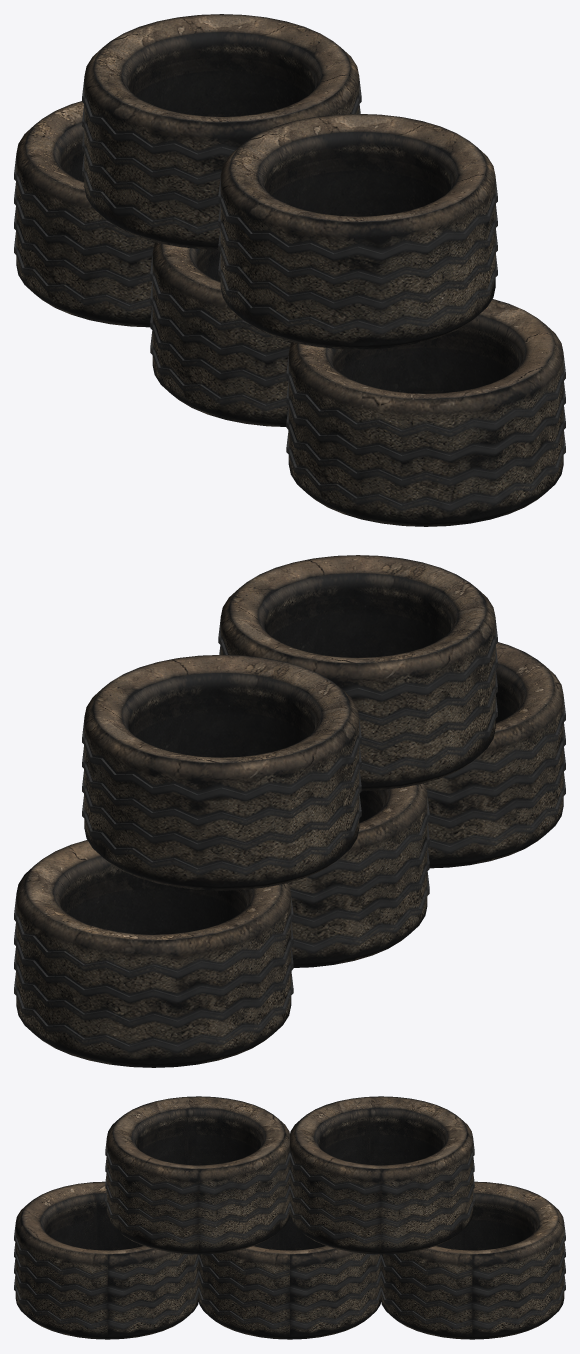
The model's file is TireWall.fbx.
The picture shows the model from 3 angles, top to bottom: view 1: azimuth 30°, elevation 25°; view 2: azimuth 150°, elevation 25°; view 3: azimuth 270°, elevation 25°; orthographic projection. The views are drawn at different scales.
Parts seen in each view (by area): view 1: TireWall; view 2: TireWall; view 3: TireWall.
Boxes of the visible parts, x1,y1,x2,y2 form: TireWall: [14, 14, 565, 526]; TireWall: [14, 555, 565, 1067]; TireWall: [14, 1096, 565, 1339].
Size of the model in its own units: 103 by 103 by 303.
Materials: 1 (1 with a texture image).
